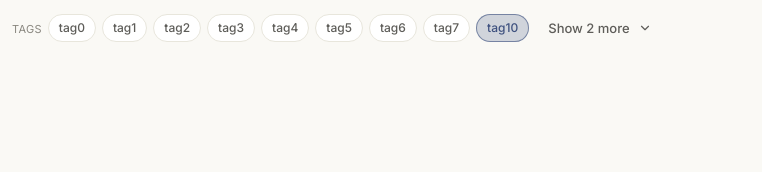
Test case: TagFilterRow › folds the row past its limit but never hides a tag that is switched on
Expected: the button "tag8" is not shown
Click the button "Show 2 more" at (600, 28), box [535,12,665,44]
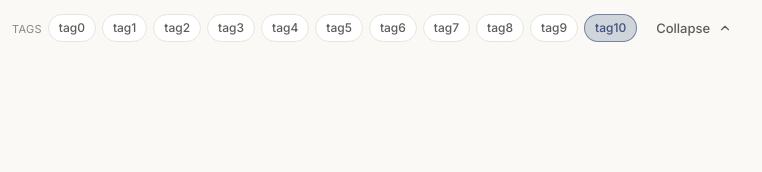
Expected: the button "tag8" is shown, [476,14,524,42]
Expected: the button "Collapse" is shown, [643,12,745,44]
